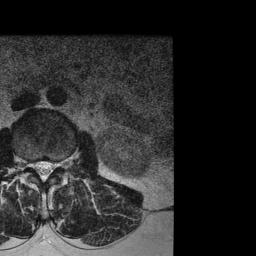CCS_normal: (39, 152, 47, 188)
LFS_stenosis: (55, 152, 63, 174)
LLS_normal: (47, 153, 55, 182)
RFS_stenosis: (26, 152, 33, 175)
RLS_normal: (33, 153, 39, 180)
